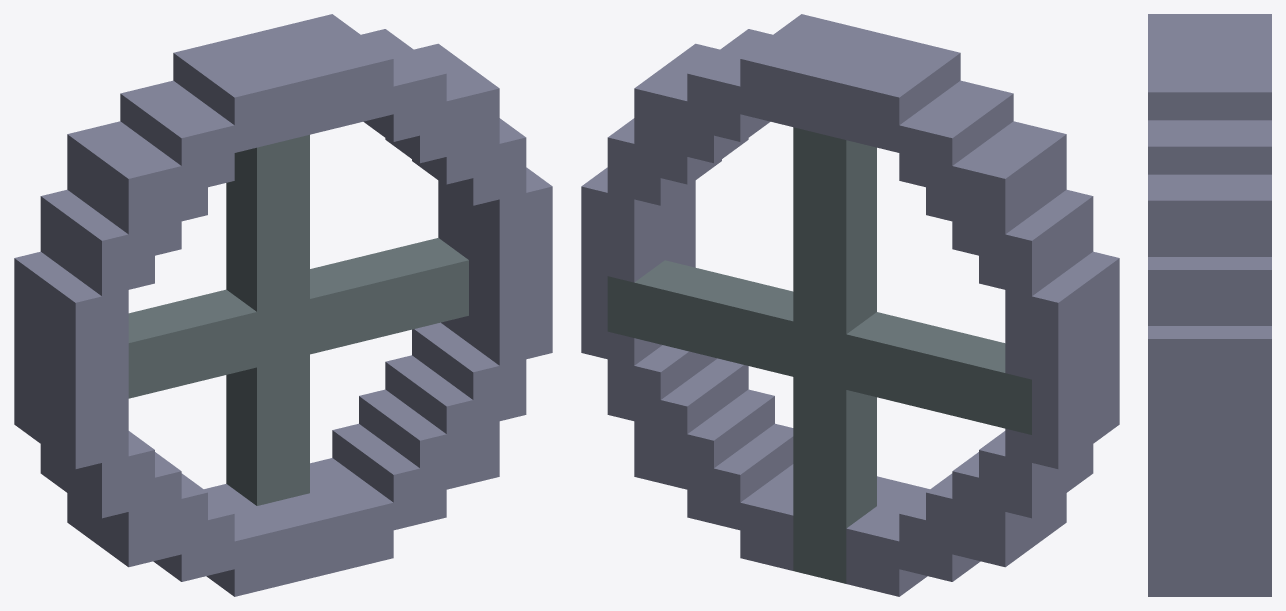
The model's file is mathematics-08.glb.
3 renders of one model, left to right at view 1: azimuth 30°, elevation 25°; view 2: azimuth 150°, elevation 25°; view 3: azimuth 270°, elevation 25°, orthographic.
Visible parts, largest first — view 1: Infinity sculpture; view 2: Infinity sculpture; view 3: Infinity sculpture.
Part boxes in pixels (x1,y1,x2,y2): Infinity sculpture: (14, 14, 552, 596); Infinity sculpture: (581, 14, 1119, 596); Infinity sculpture: (1148, 14, 1271, 596).
Size of the model in its own units: 1.44 by 1.44 by 0.32.
